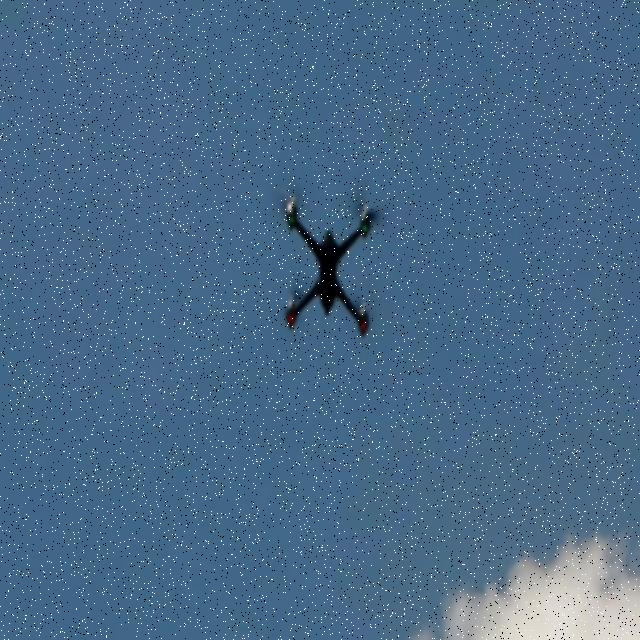UAV: (280, 191, 378, 341)
